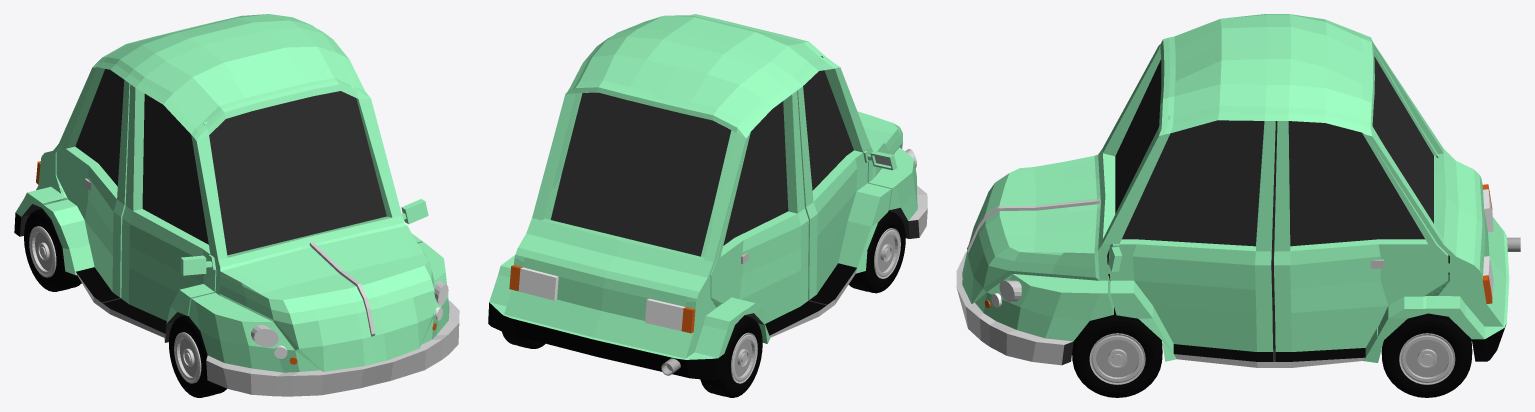
The picture shows the model from 3 angles, left to right: view 1: azimuth 30°, elevation 25°; view 2: azimuth 150°, elevation 25°; view 3: azimuth 270°, elevation 25°; orthographic projection. The views are drawn at different scales.
Parts seen in each view (by area): view 1: BODY, WHEEL.004, WHEEL.001; view 2: BODY, WHEEL.004, WHEEL.001; view 3: BODY, WHEEL.002, WHEEL.003.
Boxes of the visible parts, bbox=[...] form: BODY: bbox=[14, 14, 459, 396]; WHEEL.004: bbox=[24, 208, 81, 291]; WHEEL.001: bbox=[169, 315, 226, 397]; BODY: bbox=[488, 14, 927, 380]; WHEEL.004: bbox=[700, 315, 762, 397]; WHEEL.001: bbox=[848, 211, 905, 293]; BODY: bbox=[956, 14, 1509, 367]; WHEEL.002: bbox=[1381, 313, 1472, 397]; WHEEL.003: bbox=[1072, 307, 1162, 397].
Size of the model in its own units: 121 by 126 by 216.
